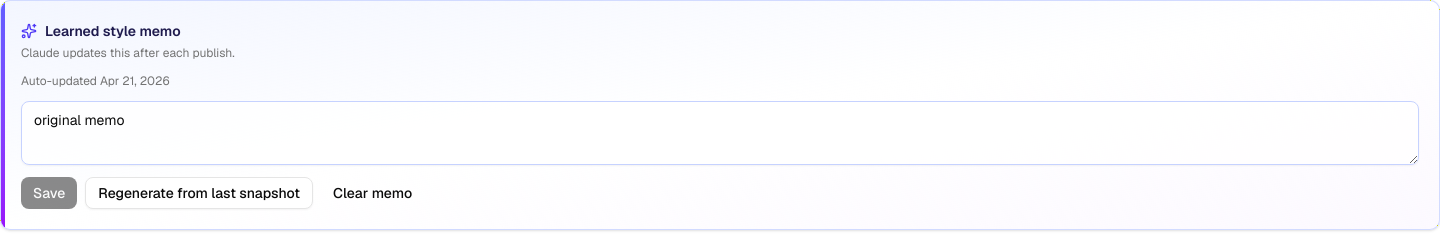
Test case: StyleMemoCard › shows a Regenerated confirmation after a successful regenerate
Click the button with test id "style-memo-regenerate-button" at (199, 193), box 85,177 -> 313,209
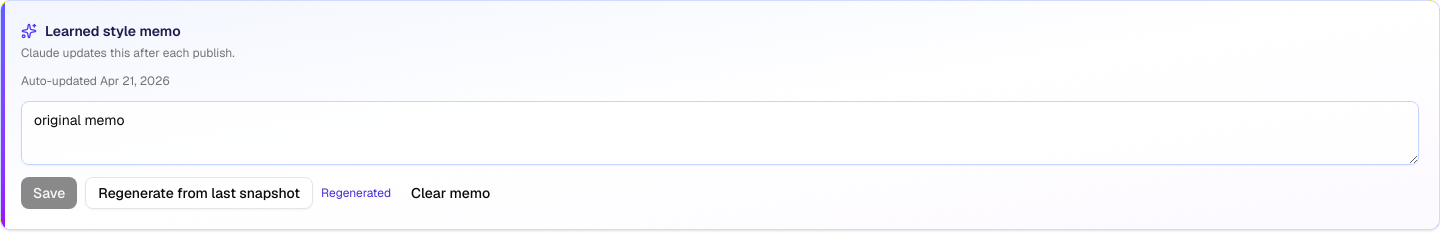
Check: the text "Regenerated" is shown, box 321,185 -> 391,201
